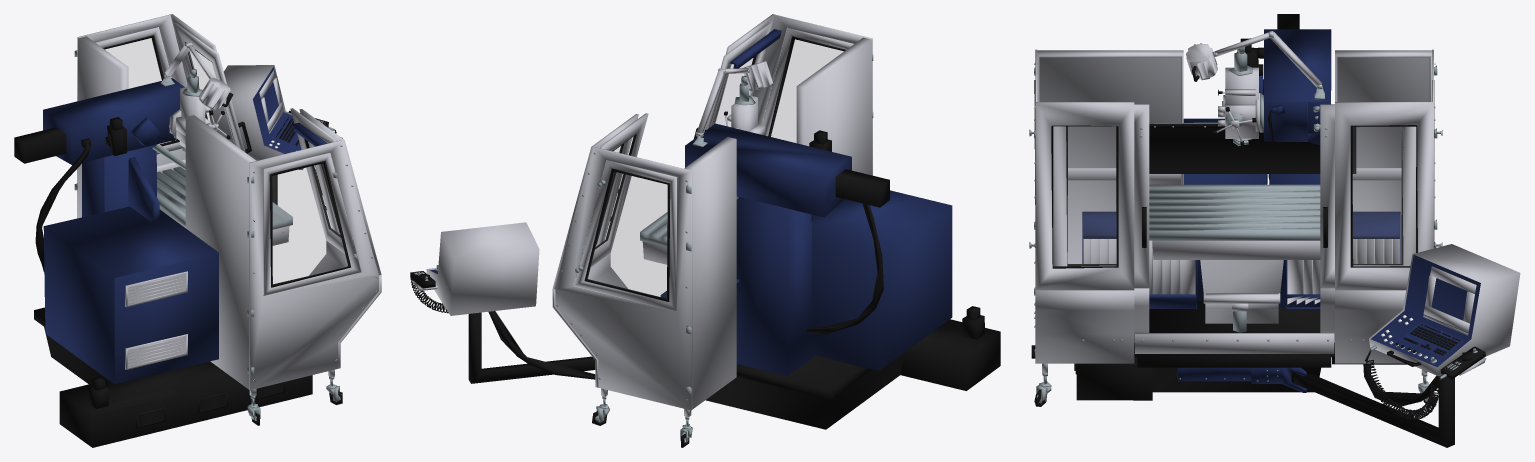
File: OBJ-cnc_mill.glb
The picture shows the model from 3 angles, left to right: view 1: azimuth 30°, elevation 25°; view 2: azimuth 150°, elevation 25°; view 3: azimuth 270°, elevation 25°; orthographic projection. The views are drawn at different scales.
Parts seen in each view (by area): view 1: object 1, Object_22; view 2: object 1, Object_22; view 3: object 1, Object_22.
Boxes of the visible parts, x1,y1,x2,y2 form: object 1: [14, 14, 381, 447]; Object_22: [105, 38, 347, 283]; object 1: [410, 14, 1000, 447]; Object_22: [588, 40, 843, 298]; object 1: [1029, 14, 1520, 447]; Object_22: [1053, 127, 1415, 265].
Bounding box in the file's own units: 2.5 × 1.77 × 2.27.
2 materials, 1 textured.
